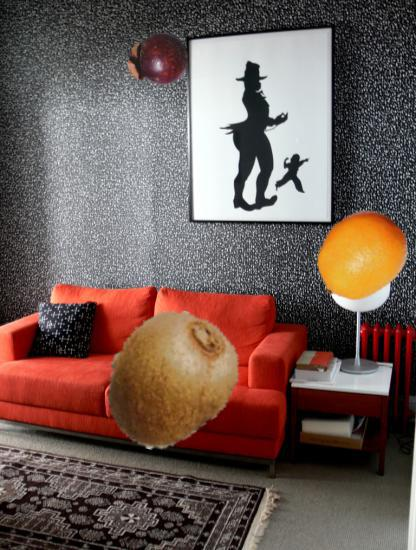Kiwi: (101, 310, 244, 453)
Lemon: (309, 207, 409, 307)
Mangostan: (125, 27, 189, 91)
